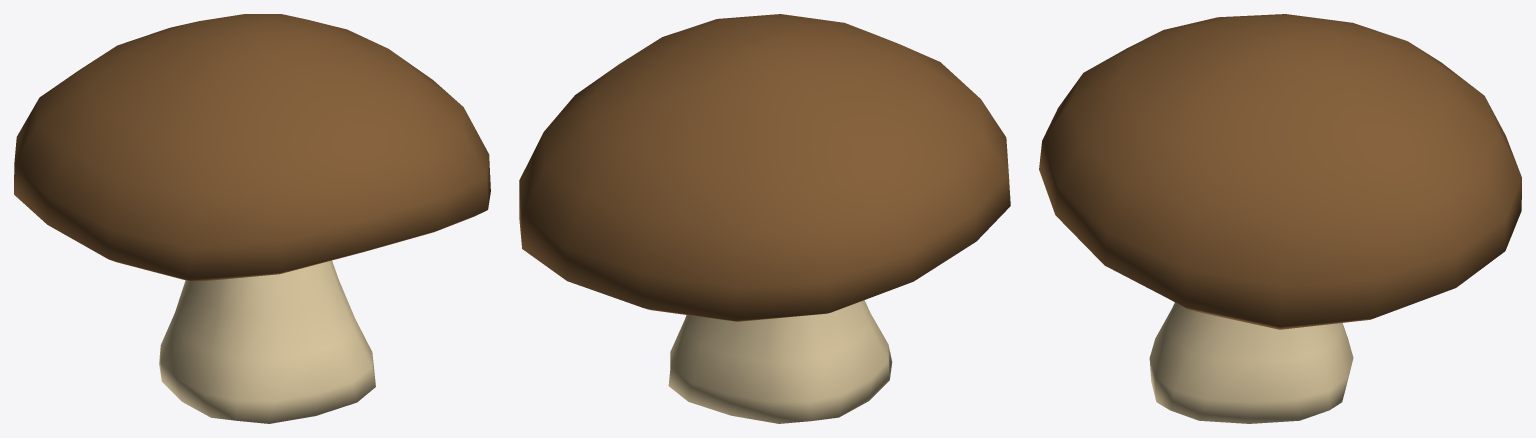
Rendered from L-Mushroom.fbx.
3 renders of one model, left to right at view 1: azimuth 30°, elevation 25°; view 2: azimuth 150°, elevation 25°; view 3: azimuth 270°, elevation 25°, orthographic. The views are drawn at different scales.
Visible parts, largest first — view 1: Cube.002; view 2: Cube.002; view 3: Cube.002.
Boxes of the visible parts, x1=… form: Cube.002: x1=14, y1=14, x2=490, y2=423; Cube.002: x1=519, y1=14, x2=1010, y2=423; Cube.002: x1=1039, y1=14, x2=1521, y2=423.
Bounding box in the file's own units: 320 × 257 × 320.
